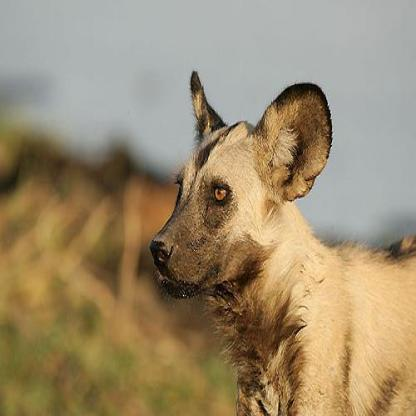African_hunting_dog: (150, 67, 414, 414)
